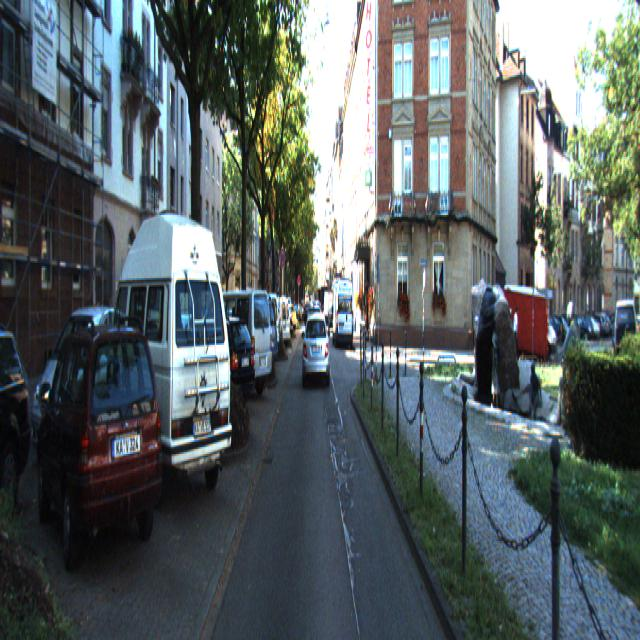Car: (109, 194, 240, 504), (40, 318, 168, 581), (30, 301, 131, 455), (198, 286, 274, 400), (179, 315, 258, 419), (0, 312, 37, 517), (130, 241, 188, 355), (302, 312, 330, 388), (258, 290, 291, 345), (332, 279, 354, 347), (305, 306, 323, 358)
